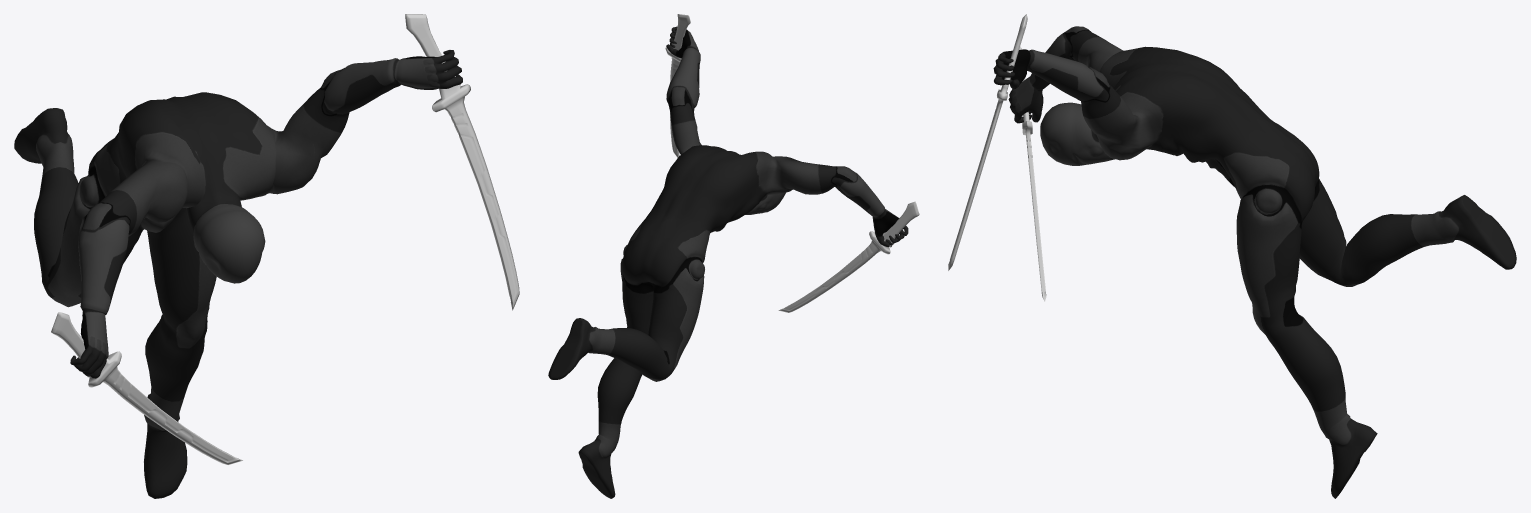
The picture shows the model from 3 angles, left to right: view 1: azimuth 30°, elevation 25°; view 2: azimuth 150°, elevation 25°; view 3: azimuth 270°, elevation 25°; orthographic projection. The views are drawn at different scales.
Parts seen in each view (by area): view 1: Cyborg_Ninja_Killer, Sword_l, Sword_l001; view 2: Cyborg_Ninja_Killer, Sword_l001, Sword_l; view 3: Cyborg_Ninja_Killer, Sword_l, Sword_l001.
Part boxes in pixels (<box>): Cyborg_Ninja_Killer: <box>14,50,462,498</box>; Sword_l: <box>405,14,519,310</box>; Sword_l001: <box>51,312,242,464</box>; Cyborg_Ninja_Killer: <box>548,26,908,498</box>; Sword_l001: <box>778,201,919,312</box>; Sword_l: <box>665,14,690,157</box>; Cyborg_Ninja_Killer: <box>993,26,1516,498</box>; Sword_l: <box>948,14,1027,270</box>; Sword_l001: <box>1019,46,1046,301</box>.
Size of the model in its own units: 135 by 182 by 185.
